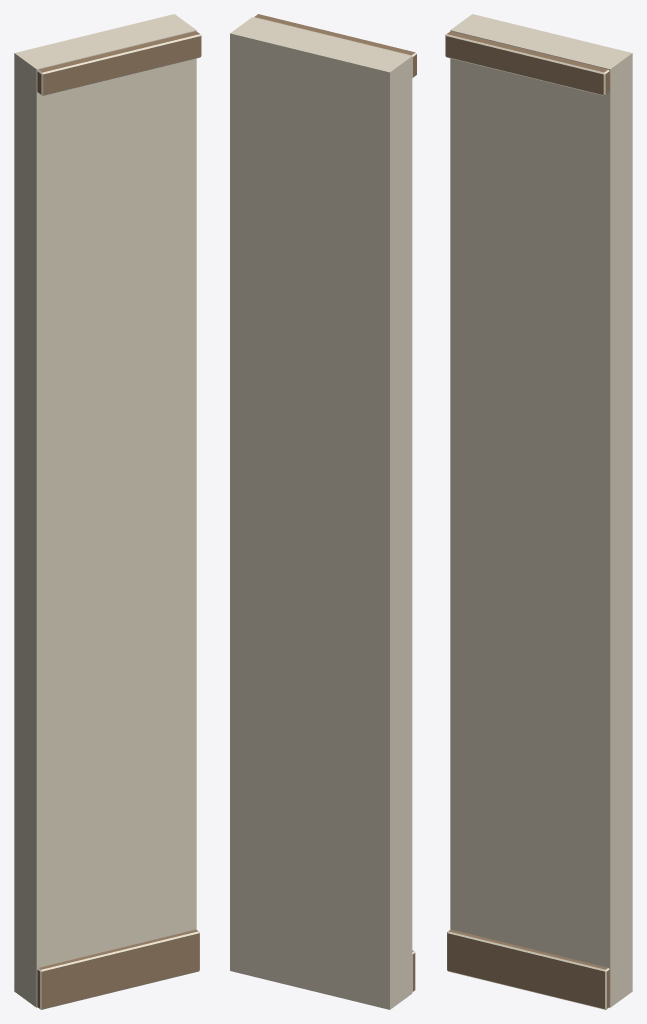
Rendered from muro_medio_280.glb.
3 views of the same model, side by side, from view 1: azimuth 30°, elevation 25°; view 2: azimuth 150°, elevation 25°; view 3: azimuth 330°, elevation 25° (orthographic).
Parts seen in each view (by area): view 1: muro_medio_280; view 2: muro_medio_280; view 3: muro_medio_280.
Part boxes in pixels (box(x1,y1,x2,y2)): muro_medio_280: box(14, 14, 201, 1009); muro_medio_280: box(230, 14, 416, 1009); muro_medio_280: box(445, 14, 632, 1009).
Bounding box in the file's own units: 0.5 × 2.8 × 0.15.
